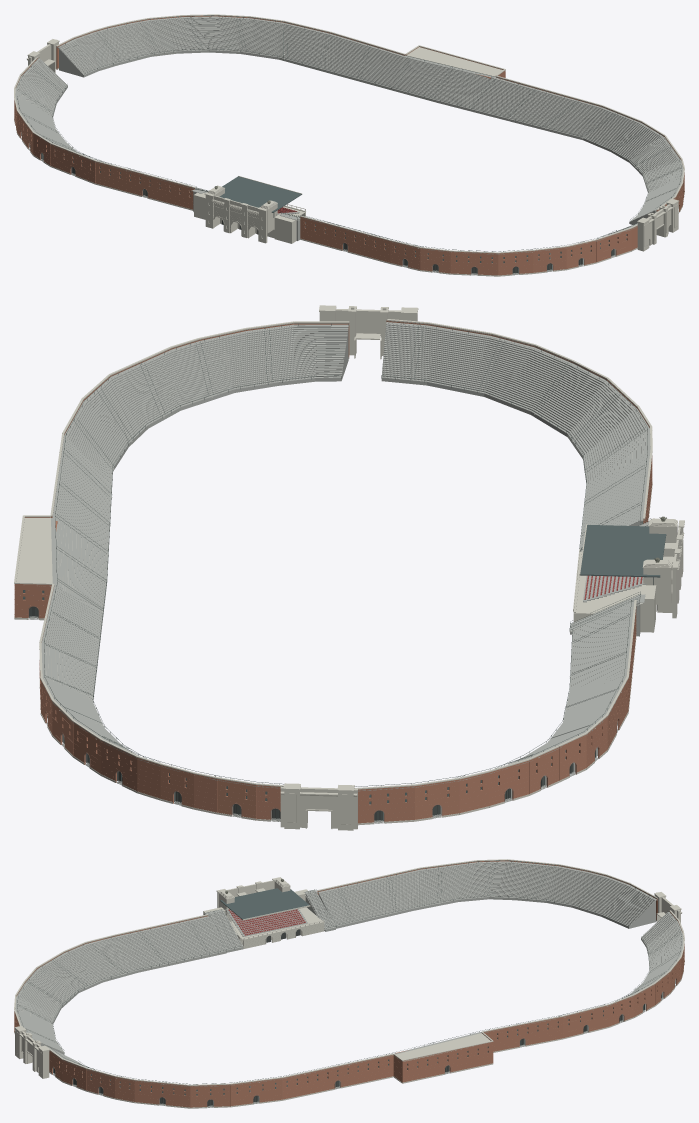
The model's file is yangpu-jiangwan-stadium-web.glb.
The picture shows the model from 3 angles, top to bottom: view 1: azimuth 30°, elevation 25°; view 2: azimuth 150°, elevation 25°; view 3: azimuth 270°, elevation 25°; orthographic projection. The views are drawn at different scales.
Visible parts, largest first — view 1: 江湾体育场历史主场（看台与入口）; view 2: 江湾体育场历史主场（看台与入口）; view 3: 江湾体育场历史主场（看台与入口）.
Part boxes in pixels (x1,y1,x2,y2): 江湾体育场历史主场（看台与入口）: [14, 14, 684, 276]; 江湾体育场历史主场（看台与入口）: [14, 305, 684, 830]; 江湾体育场历史主场（看台与入口）: [14, 859, 684, 1108].
Bounding box in the file's own units: 250 × 18.63 × 313.
